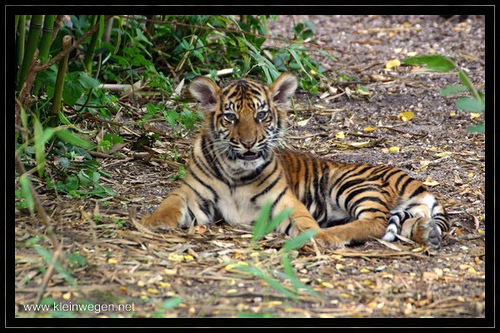Tigre: (161, 73, 452, 275)
